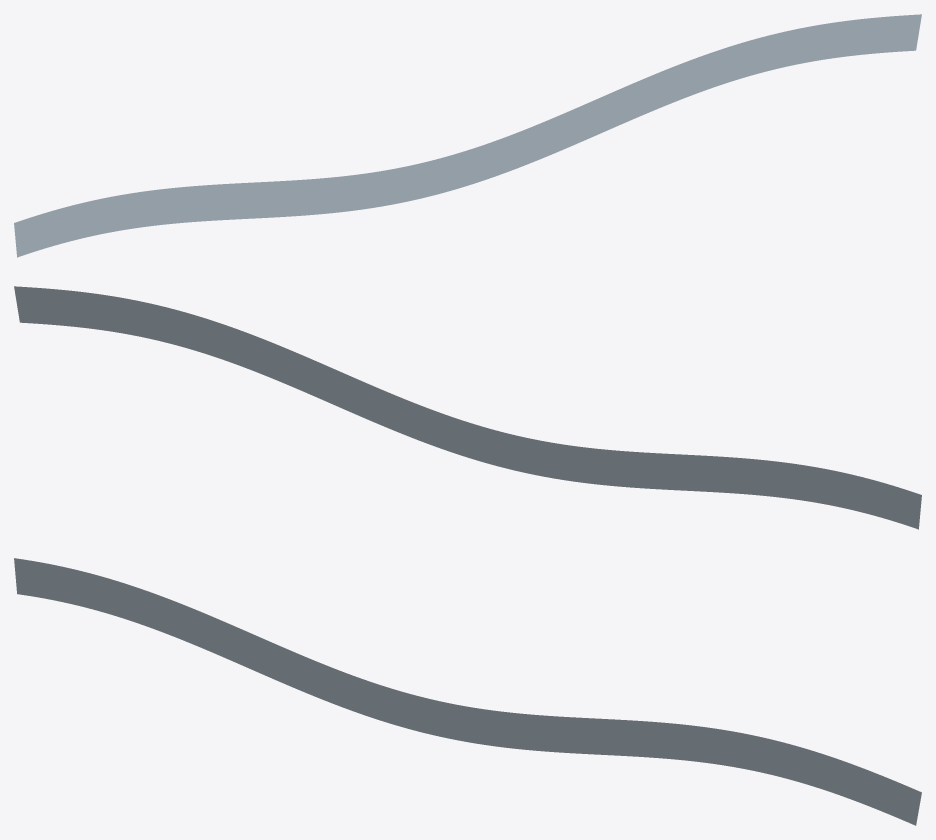
File: Mona_StellarisPhantasm_CastOnly_StarryWaterWave1.fbx
The picture shows the model from 3 angles, top to bottom: view 1: azimuth 30°, elevation 25°; view 2: azimuth 150°, elevation 25°; view 3: azimuth 330°, elevation 25°; orthographic projection.
Visible parts, largest first — view 1: PART_ThinRollingStarryWater_1; view 2: PART_ThinRollingStarryWater_1; view 3: PART_ThinRollingStarryWater_1.
Part boxes in pixels (left/top/right/bottom): PART_ThinRollingStarryWater_1: left=14, top=14, right=921, bottom=257; PART_ThinRollingStarryWater_1: left=14, top=286, right=921, bottom=529; PART_ThinRollingStarryWater_1: left=14, top=558, right=921, bottom=825.
Size of the model in its own units: 842 by 69.38 by 1.13e-05.
